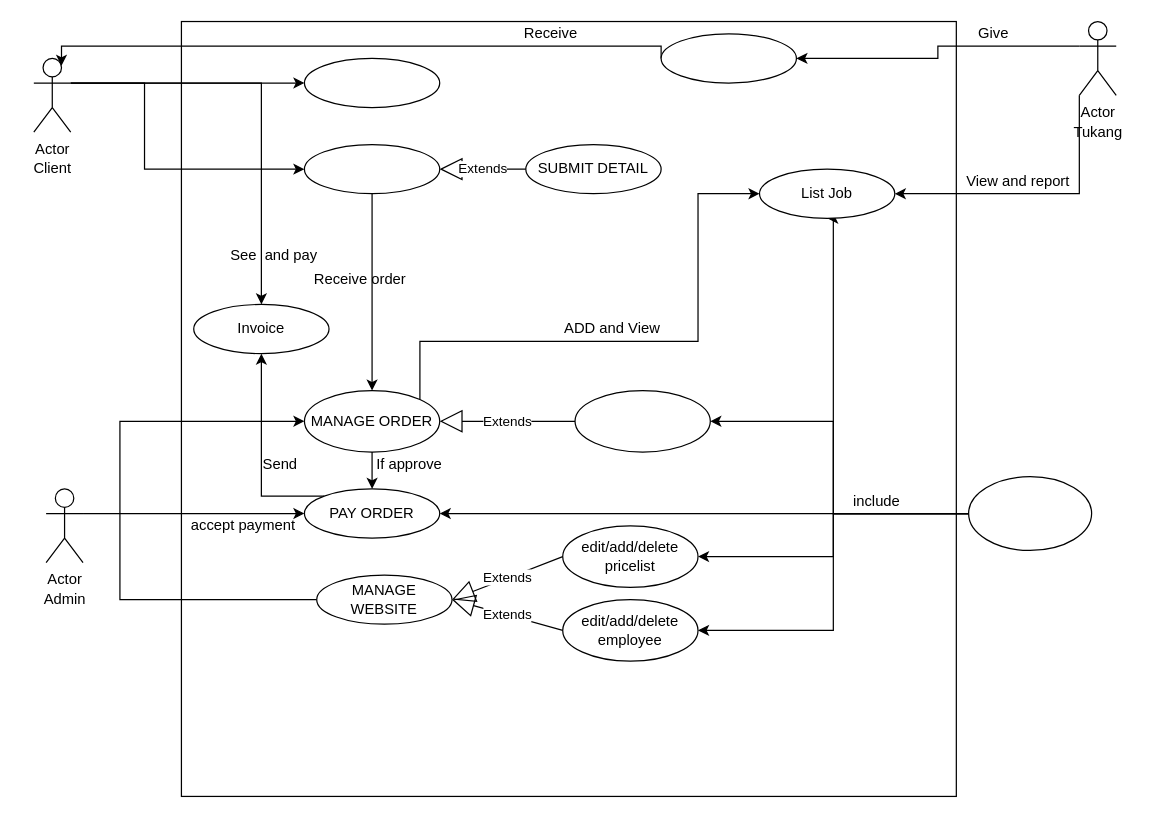
The diagram is 1149 pixels wide and 818 high, and some of its shapes have lost their labels. The centre of each missing label's shape, as x and y in pixels:
APPROVE/CANCEL: the point at 642,420
LOGIN: the point at 1029,512
ORDER: the point at 371,168
Services: the point at 728,58
VIEW WEBSITE: the point at 371,82
